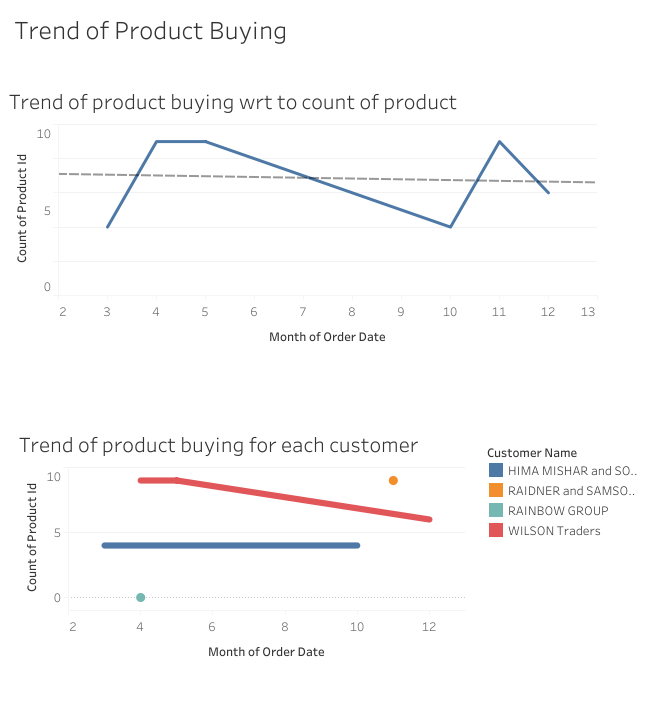

The page's visual inventory and layout, read from the dashboard file:
{"tool":"tableau","page":{"name":"Trend of Product buying","canvas":[650,860],"ordinal":2},"visuals":[{"type":"worksheet","box":[0,0,650,860]},{"type":"worksheet","param":"vert","box":[8,10.9,634,838.3]},{"type":"worksheet","box":[8,10.9,634,57.1]},{"type":"worksheet","box":[8,67.9,634,781.2]},{"type":"worksheet","box":[8,67.9,634,781.2]},{"type":"worksheet","title":"Trend of product buying wrt to count of product","mark":"Automatic","rows":["PRODUCT_ID"],"cols":["ORDER_DATE"],"box":[5,96.5,594,324.7]},{"type":"worksheet","title":"Trend of product buying for each customer","mark":"Automatic","rows":["PRODUCT_ID"],"cols":["ORDER_DATE"],"box":[15,508.1,451,290.7]},{"type":"worksheet","title":"Trend of product buying for each customer","mark":"Automatic","rows":["PRODUCT_ID"],"cols":["ORDER_DATE"],"param":"[federated.1lti0yi1cxf41814yq8h81mmb09j].[none:CUSTOMER_NAME:nk]","box":[487,528.5,154,152.2]}]}

Visuals, with their boxes on the page's 650x860 design canvas (x1, y1, x2, y2). These are canvas units, not pixel positions in the 647x717 screenshot, which may show the page scaled, cropped or inside an application window:
worksheet: 0/0/650/860
worksheet: 8/11/642/849
worksheet: 8/11/642/68
worksheet: 8/68/642/849
worksheet: 8/68/642/849
"Trend of product buying wrt to count of product" worksheet: 5/96/599/421
"Trend of product buying for each customer" worksheet: 15/508/466/799
"Trend of product buying for each customer" worksheet: 487/528/641/681
